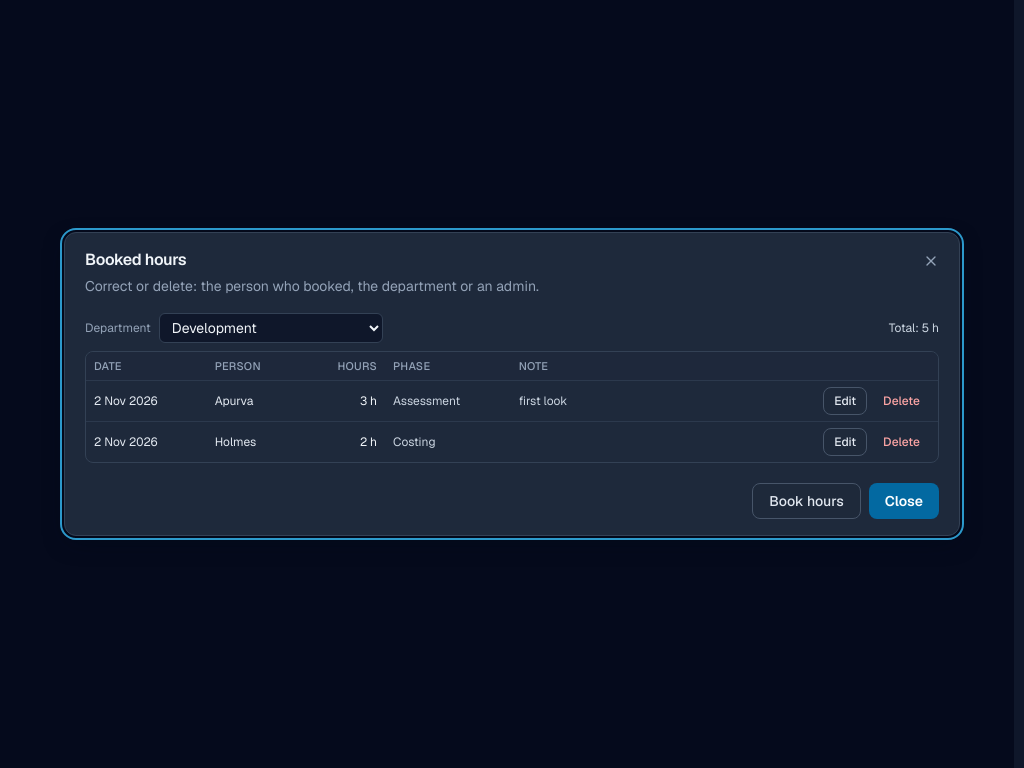
Test: BookingsDialog › delete asks in an inline row first, then deletes
Later steps or results of the test are not shown.
Click the button with test id "booking-delete-12" at (902, 442), box [873, 428, 930, 456]
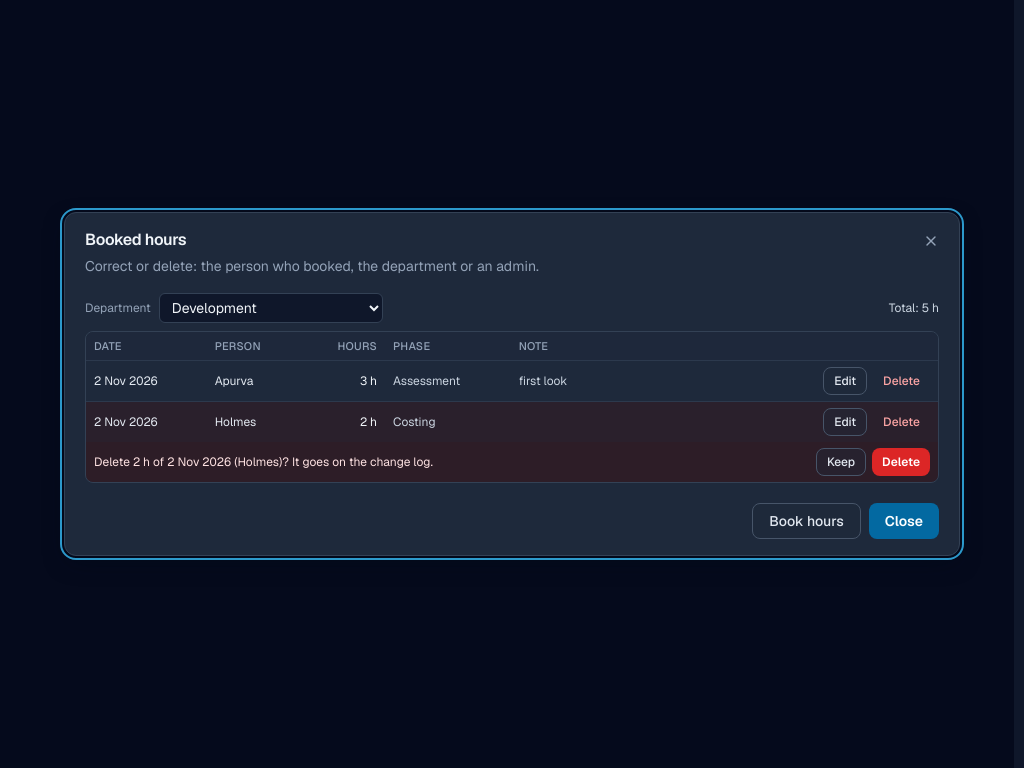
Expected: the row with test id "booking-confirm-12" shows "Delete 2 h", [94, 454, 433, 470]
